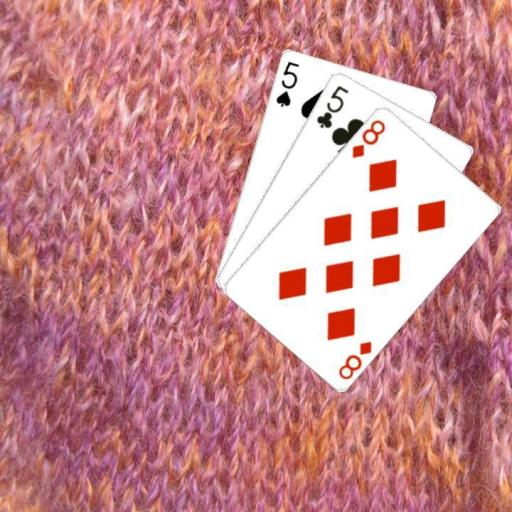card-corner: (348, 115, 387, 160), (313, 82, 350, 129), (335, 337, 373, 381), (272, 58, 300, 108)
